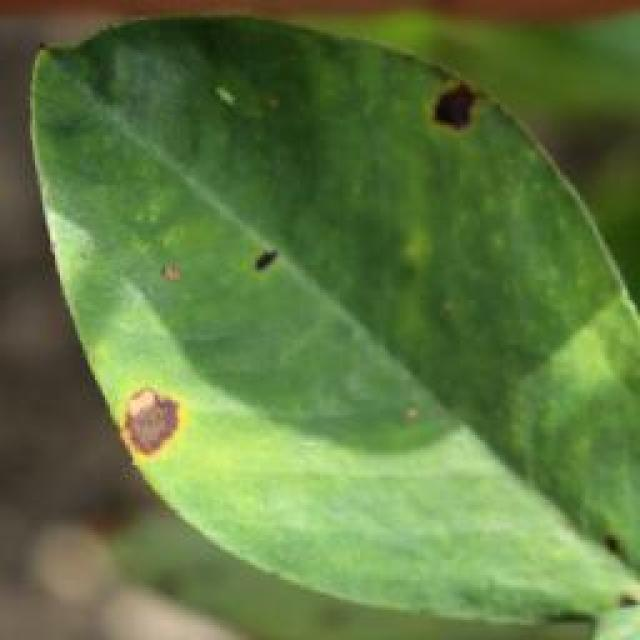Yellowish: (414, 56, 533, 203), (73, 362, 200, 474), (218, 210, 343, 322), (582, 495, 640, 585)
